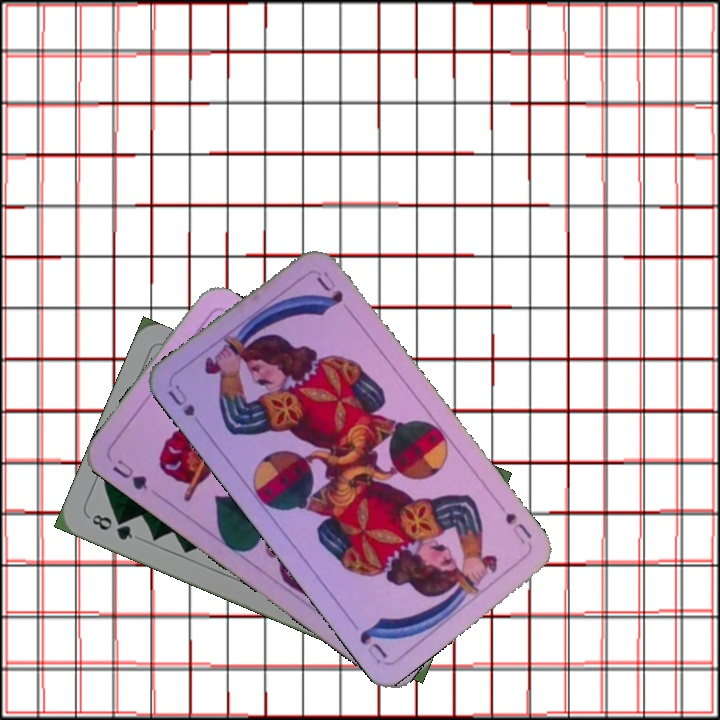G8: (85, 510, 136, 543)
GU: (108, 455, 151, 494)
SU: (493, 498, 535, 547), (163, 380, 198, 419)
